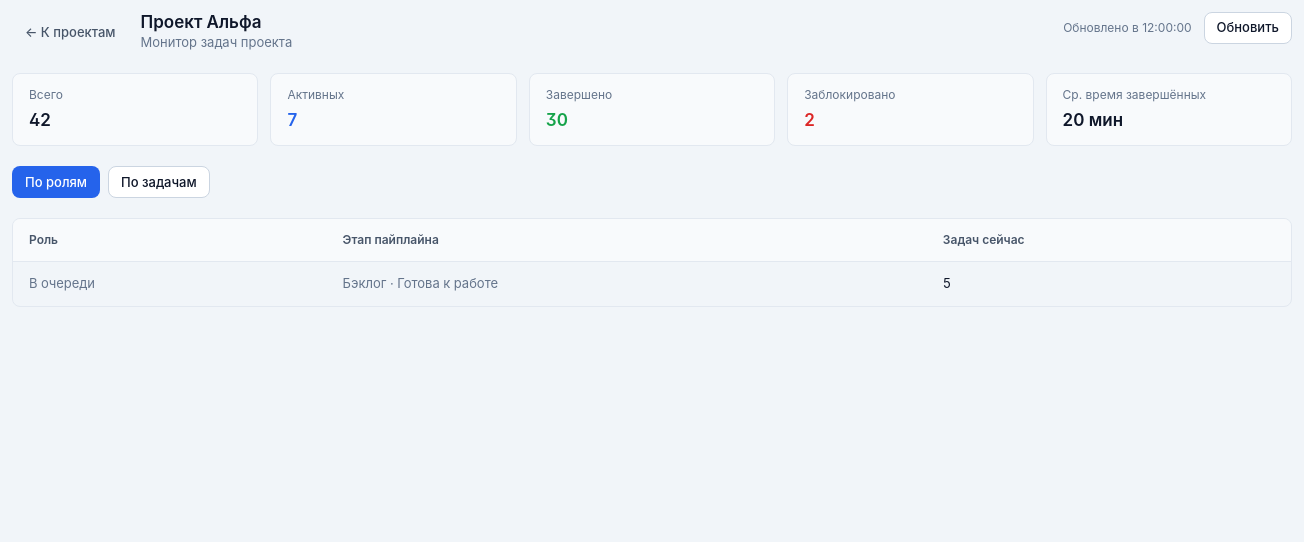
Scenario: ProjectMonitor — загрузка и базовое отображение › пустое поле service отображается как «—», а не пусто
Click the tab "По задачам": (159, 182) [108,166,210,198]
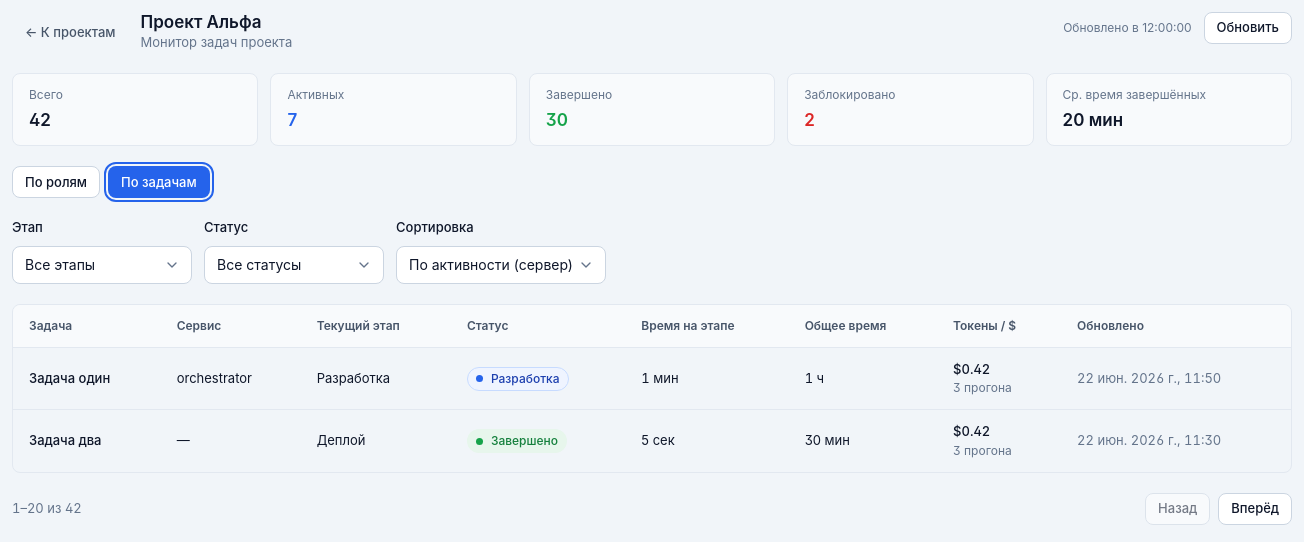
Expected: the text "—" is shown, [161,410,301,472]
